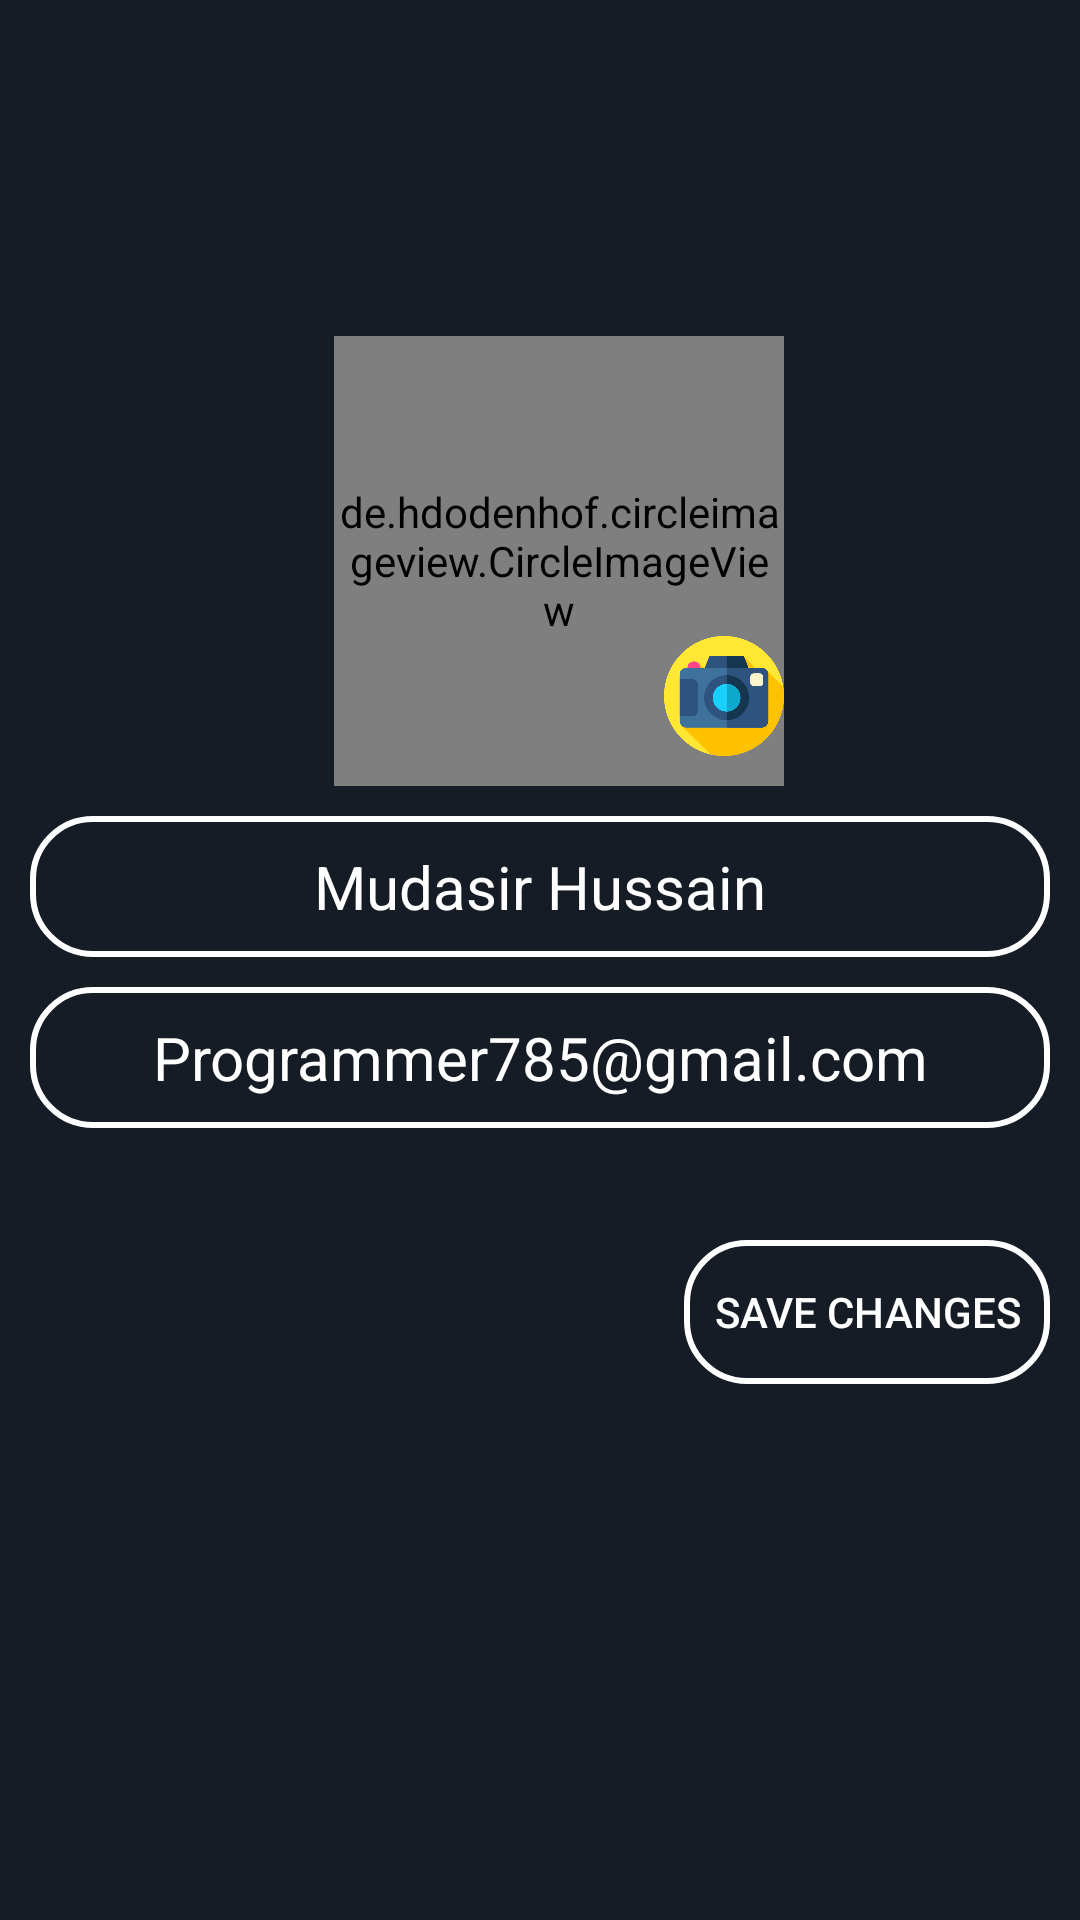

Icon click points for this 1080px x 1920px phone screenshot, format (x=x, y=y):
camera: (x=724, y=696)
